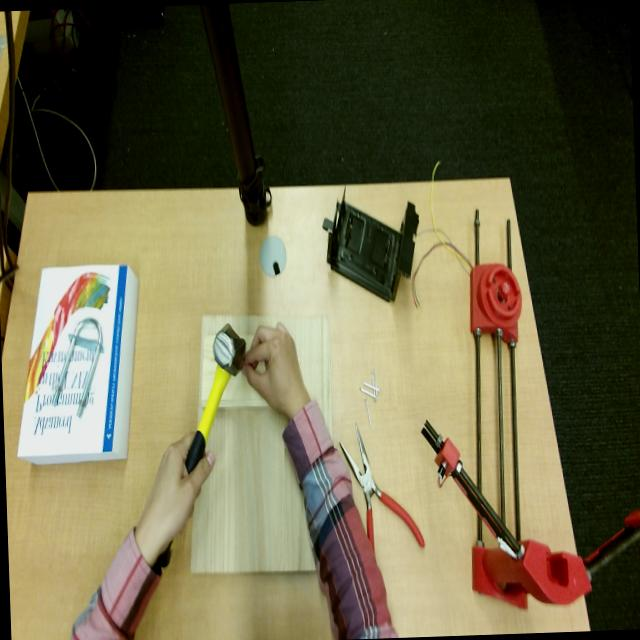hammer: (185, 325, 245, 474)
pliers: (339, 425, 424, 548)
